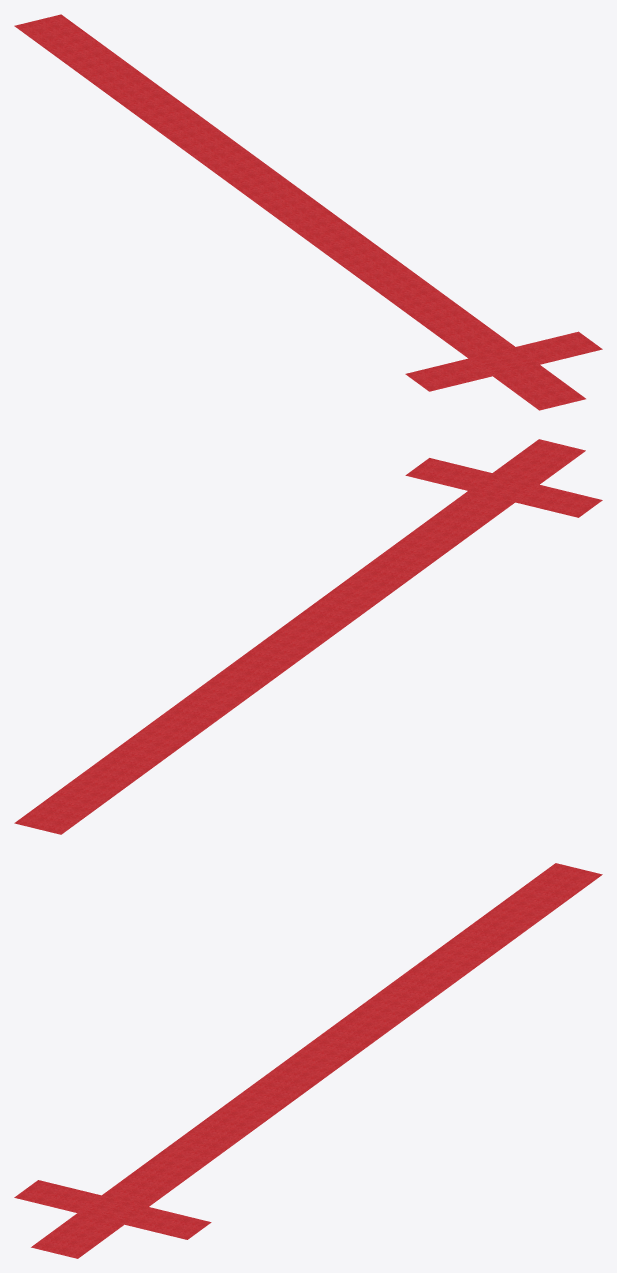
The model's file is Tapis.FBX.
3 views of the same model, one above another, from view 1: azimuth 30°, elevation 25°; view 2: azimuth 150°, elevation 25°; view 3: azimuth 330°, elevation 25° (orthographic).
Parts seen in each view (by area): view 1: Tapis; view 2: Tapis; view 3: Tapis.
Part boxes in pixels (bbox=[...]): Tapis: bbox=[14, 14, 602, 410]; Tapis: bbox=[14, 439, 602, 834]; Tapis: bbox=[14, 863, 602, 1258].
Bounding box in the file's own units: 367 × 0.1925 × 1924.
1 material, 1 textured.
